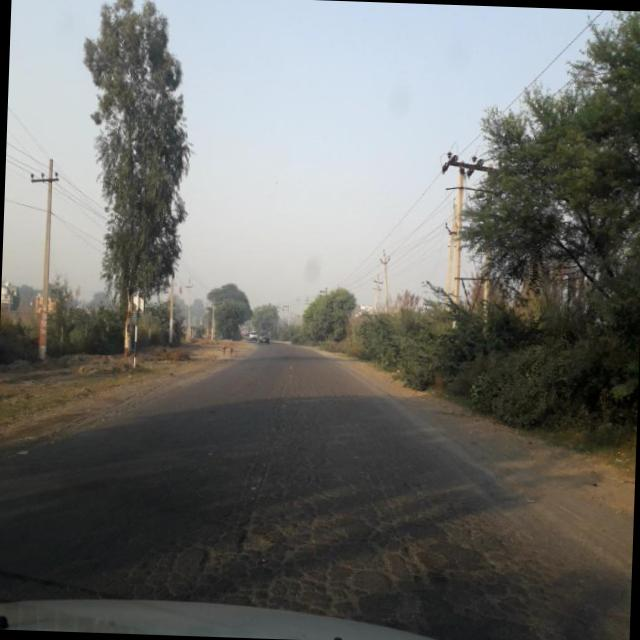crack: (0, 407, 597, 614)
pothole: (225, 490, 302, 565)
